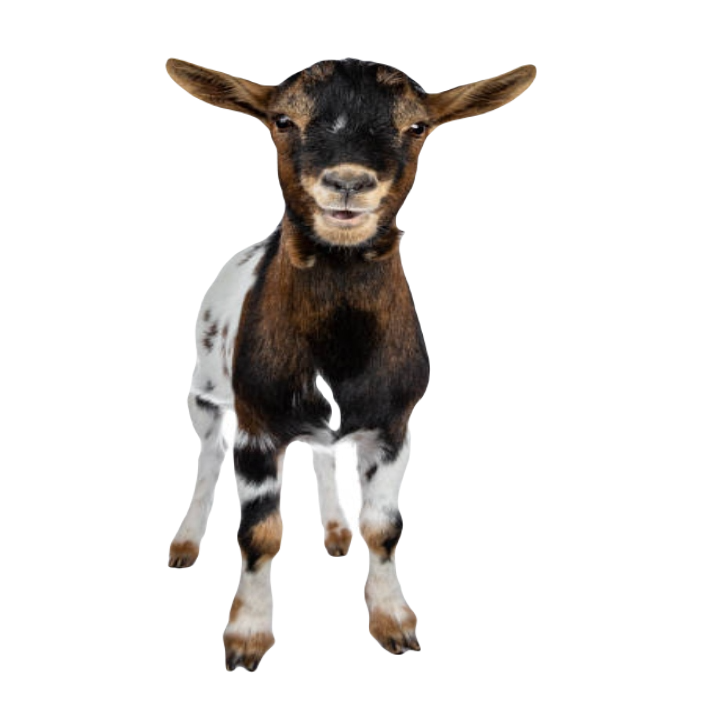Goat: (164, 54, 538, 676)
